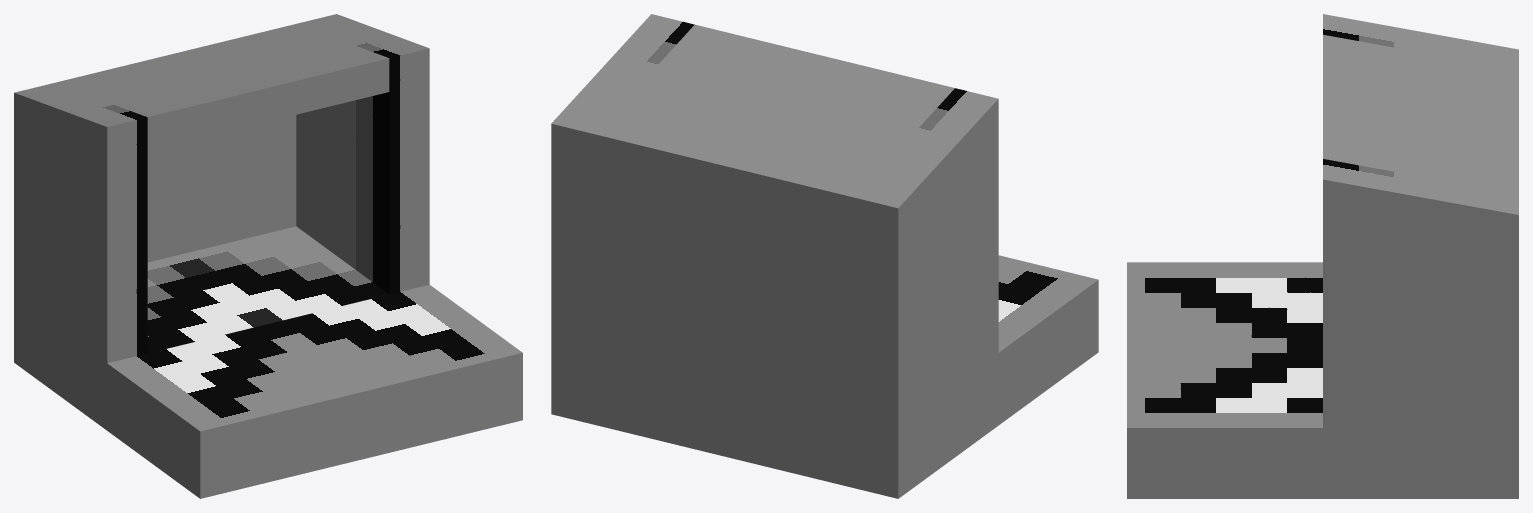
The model's file is loader.glb.
The picture shows the model from 3 angles, left to right: view 1: azimuth 30°, elevation 25°; view 2: azimuth 150°, elevation 25°; view 3: azimuth 270°, elevation 25°; orthographic projection. The views are drawn at different scales.
Visible parts, largest first — view 1: Cube; view 2: Cube; view 3: Cube.
Part boxes in pixels (x1,y1,x2,y2): Cube: [14, 14, 522, 498]; Cube: [551, 14, 1098, 498]; Cube: [1127, 14, 1518, 498].
Size of the model in its own units: 1 by 0.9 by 1.
Materials: 1 (1 with a texture image).
